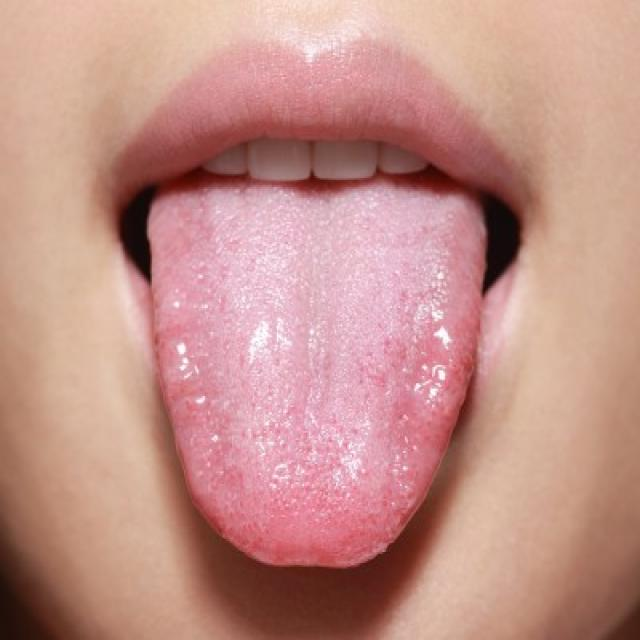baitaishe: (144, 183, 487, 569)
